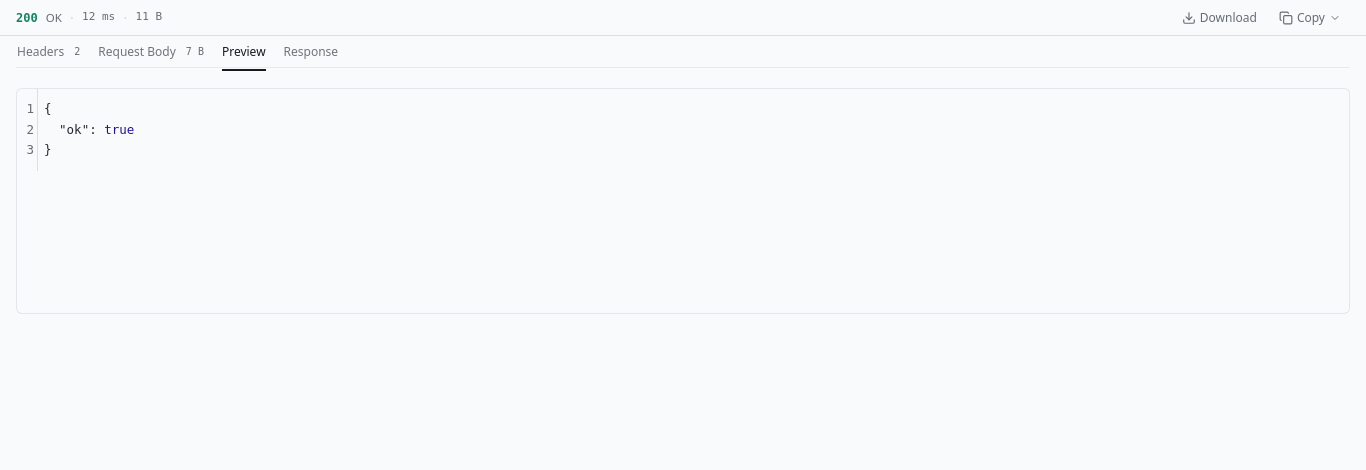
Test: ResponsePanel — tabs › reveals the final URL when a redirect changed it
This screenshot has width=1366, height=470.
What coordinates should you click on to do the following:
click the tab "Headers 2"
I would click on:
 (49, 52)
Its box is top-left (16, 36), bottom-right (81, 66).
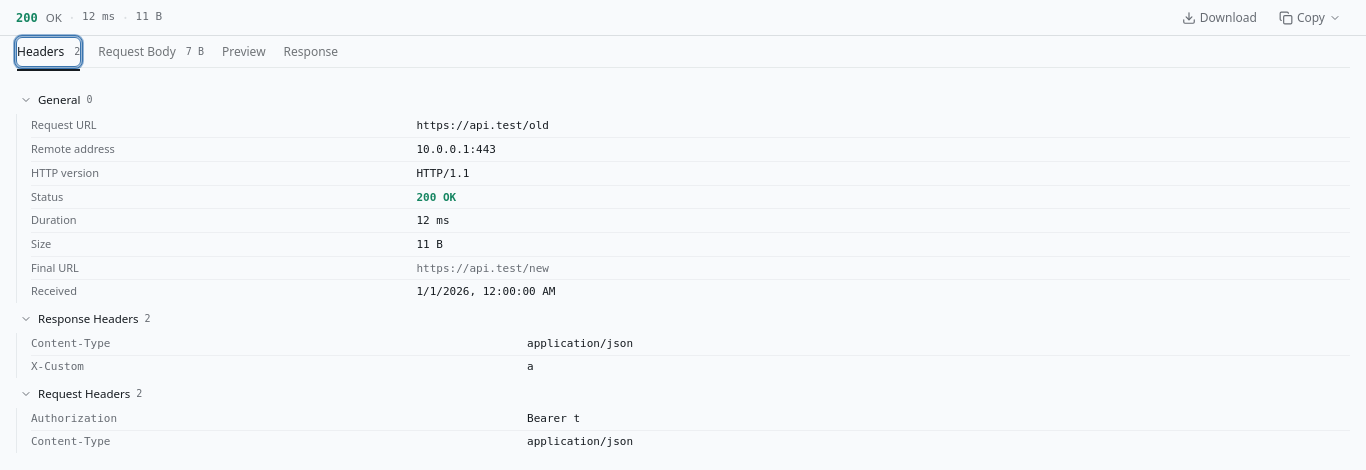
Check: the text "Final URL" is shown, box top-left (31, 260), bottom-right (79, 275)
Check: the text "https://api.test/new" is shown, box top-left (416, 262), bottom-right (549, 275)
